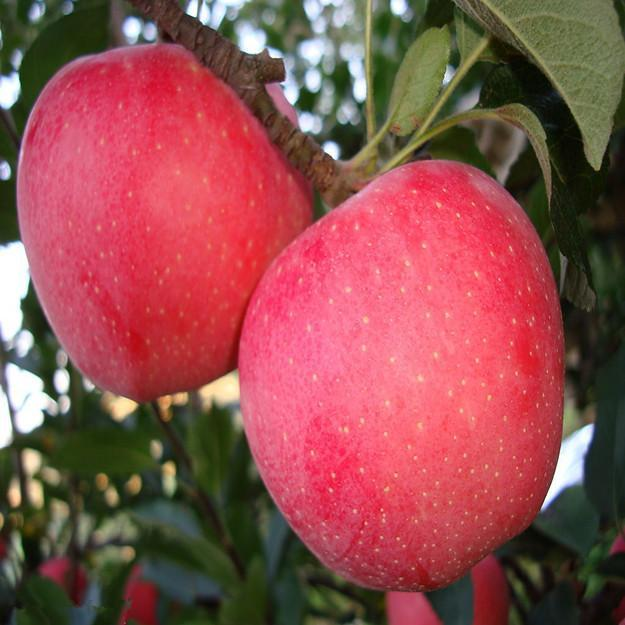apple: (242, 158, 573, 586), (14, 44, 321, 396)
